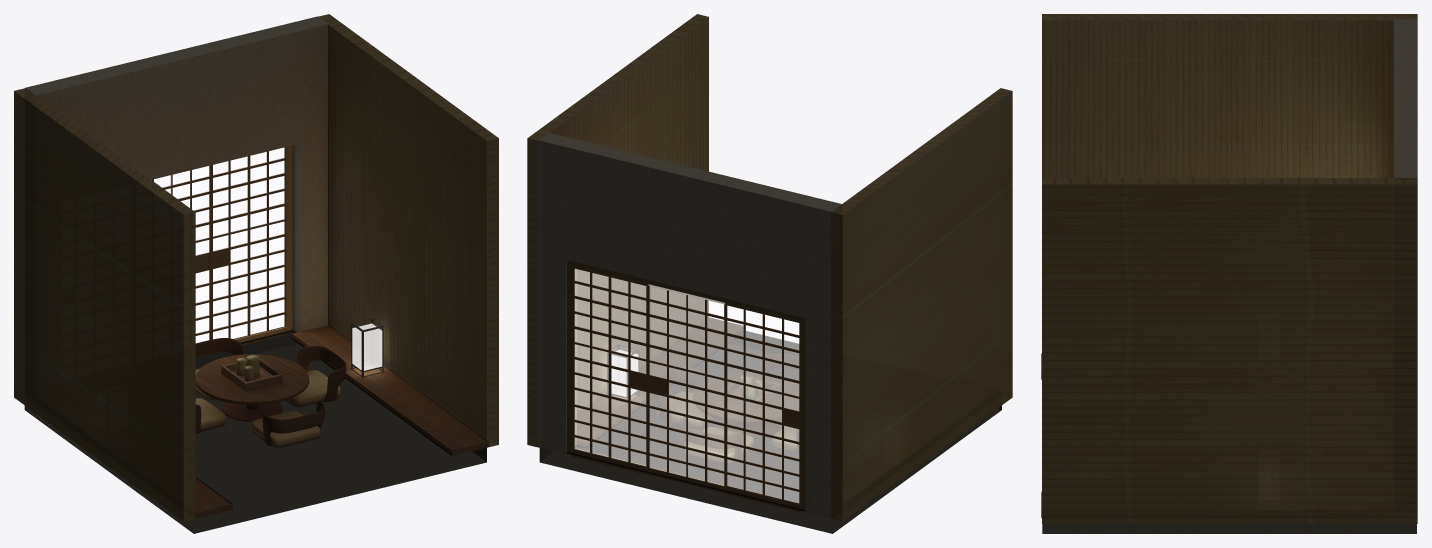
File: lobby.glb
3 renders of one model, left to right at view 1: azimuth 30°, elevation 25°; view 2: azimuth 150°, elevation 25°; view 3: azimuth 270°, elevation 25°, orthographic. The views are drawn at different scales.
Visible parts, largest first — view 1: Object_2, Object_4, Object_11, Object_10, Object_13, Object_18, Object_14, Object_12, Object_17, Object_3, Object_8, Object_9 (+3 smaller); view 2: Object_2, Object_11, Object_13, Object_4, Object_14, Object_10, Object_3, Object_18, Object_12, Object_17, Object_7, Object_8 (+1 smaller); view 3: Object_4, Object_2, Object_11, Object_10.
Part boxes in pixels (bbox=[...]): Object_2: bbox=[14, 88, 195, 521]; Object_4: bbox=[319, 14, 498, 446]; Object_11: bbox=[25, 16, 328, 332]; Object_10: bbox=[24, 332, 486, 533]; Object_13: bbox=[154, 147, 382, 370]; Object_18: bbox=[195, 325, 488, 518]; Object_14: bbox=[152, 147, 287, 355]; Object_12: bbox=[195, 354, 309, 421]; Object_17: bbox=[195, 369, 340, 446]; Object_3: bbox=[234, 145, 292, 343]; Object_8: bbox=[286, 346, 346, 406]; Object_9: bbox=[251, 401, 324, 447]; Object_2: bbox=[831, 88, 1012, 521]; Object_11: bbox=[538, 132, 842, 518]; Object_13: bbox=[574, 269, 799, 503]; Object_4: bbox=[527, 14, 708, 447]; Object_14: bbox=[571, 266, 802, 512]; Object_10: bbox=[539, 331, 1001, 533]; Object_3: bbox=[567, 260, 805, 511]; Object_18: bbox=[576, 317, 743, 448]; Object_12: bbox=[693, 372, 799, 439]; Object_17: bbox=[656, 391, 796, 461]; Object_7: bbox=[680, 417, 753, 463]; Object_8: bbox=[651, 367, 716, 428]; Object_4: bbox=[1042, 178, 1417, 523]; Object_2: bbox=[1042, 14, 1417, 177]; Object_11: bbox=[1394, 19, 1417, 178]; Object_10: bbox=[1042, 524, 1416, 533].
Size of the model in its own units: 28.17 by 27.5 by 26.32.
16 materials, 15 textured.
